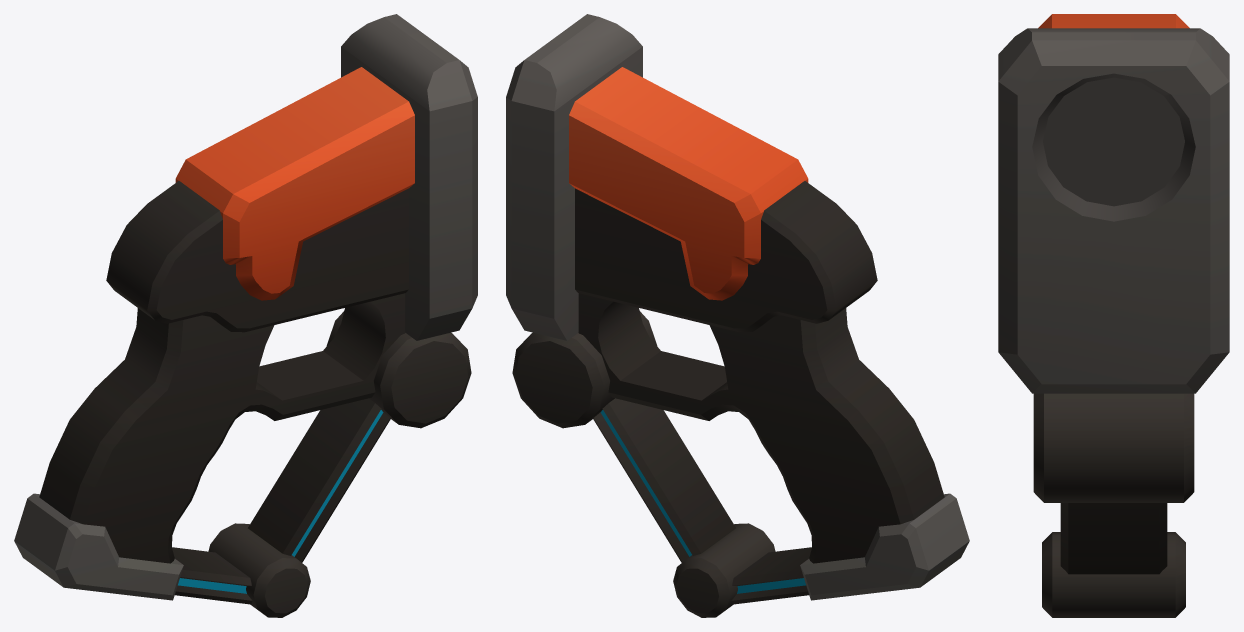
3 renders of one model, left to right at view 1: azimuth 30°, elevation 25°; view 2: azimuth 150°, elevation 25°; view 3: azimuth 270°, elevation 25°, orthographic. The views are drawn at different scales.
Visible parts, largest first — view 1: GL1_Base; view 2: GL1_Base; view 3: GL1_Base.
Part boxes in pixels (x1=…): GL1_Base: x1=14, y1=14, x2=477, y2=617; GL1_Base: x1=506, y1=14, x2=969, y2=617; GL1_Base: x1=998, y1=14, x2=1229, y2=617.
Size of the model in its own units: 19.55 by 23.79 by 7.32.
